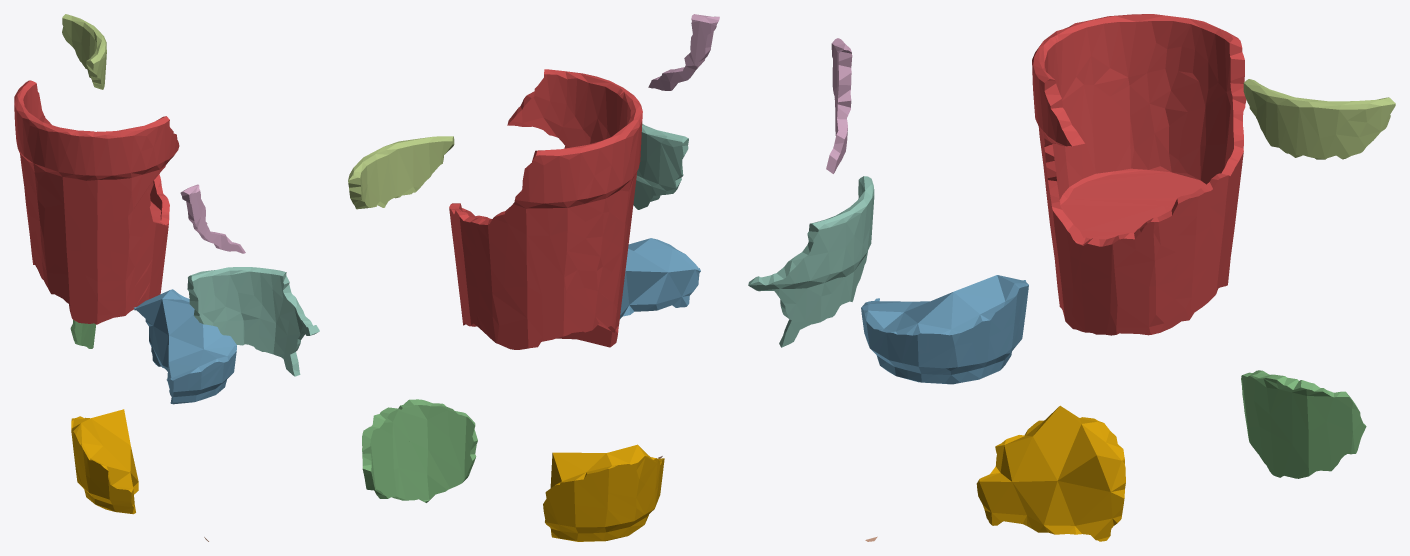
File: mode_10_8pcs_transformed.glb
The picture shows the model from 3 angles, left to right: view 1: azimuth 30°, elevation 25°; view 2: azimuth 150°, elevation 25°; view 3: azimuth 270°, elevation 25°; orthographic projection. The views are drawn at different scales.
Parts seen in each view (by area): view 1: piece_1.obj, piece_4.obj, piece_2.obj, piece_0.obj, piece_5.obj, piece_6.obj, piece_3.obj; view 2: piece_1.obj, piece_3.obj, piece_0.obj, piece_5.obj, piece_2.obj, piece_4.obj, piece_6.obj; view 3: piece_1.obj, piece_0.obj, piece_2.obj, piece_3.obj, piece_4.obj, piece_5.obj, piece_6.obj.
Boxes of the visible parts, x1,y1,x2,y2 form: piece_1.obj: (14,80,179,324); piece_4.obj: (187,267,319,376); piece_2.obj: (134,289,236,404); piece_0.obj: (71,409,138,514); piece_5.obj: (62,14,106,89); piece_6.obj: (180,184,245,253); piece_3.obj: (70,320,95,348); piece_1.obj: (449,69,642,349); piece_3.obj: (362,399,477,502); piece_0.obj: (543,444,664,541); piece_5.obj: (348,136,454,209); piece_2.obj: (619,238,700,319); piece_4.obj: (633,124,688,209); piece_6.obj: (648,14,719,90); piece_1.obj: (1032,14,1246,335); piece_0.obj: (976,405,1125,541); piece_2.obj: (861,275,1028,384); piece_3.obj: (1241,370,1366,478); piece_4.obj: (748,176,874,347); piece_5.obj: (1243,79,1395,159); piece_6.obj: (826,38,852,173).
Bounding box in the file's own units: 0.6667 × 1.6 × 1.95.
